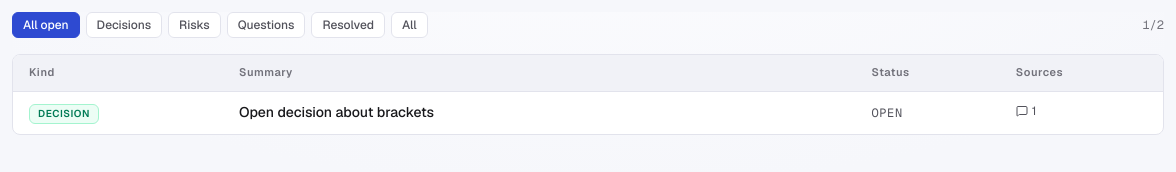
it: DecisionsBoard › the Resolved tab shows only resolved signals with a resolved-since line
The width and height of the screenshot is (1176, 172).
Click the button "Resolved" at (348, 25), box [311,12,385,38]
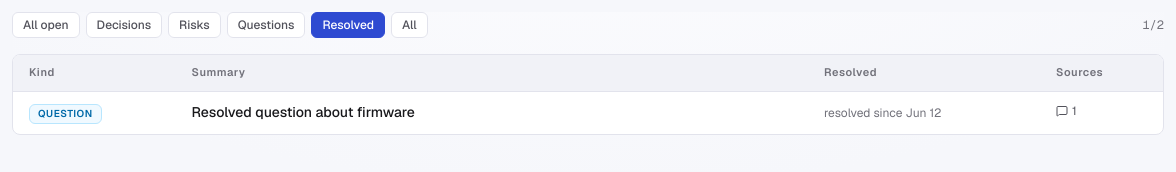
Expected: the text "Resolved question about firmware" is shown, [192,103,415,121]
Expected: the text "Open decision about brackets" is gone
Expected: the text "resolved since Jun 12" is shown, [824,105,942,121]
